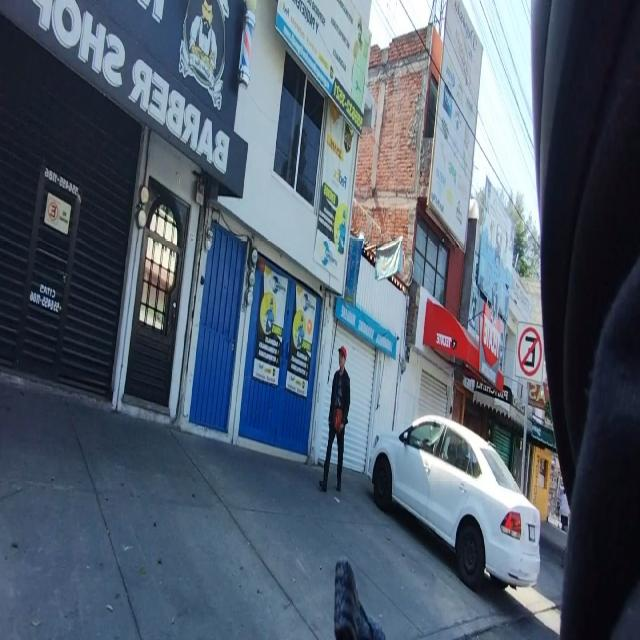adult: (319, 344, 351, 492)
